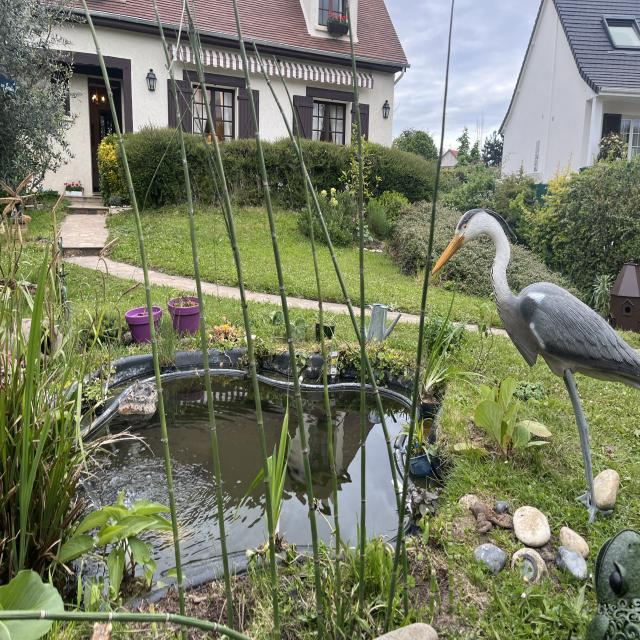Heron: (422, 201, 640, 542)
